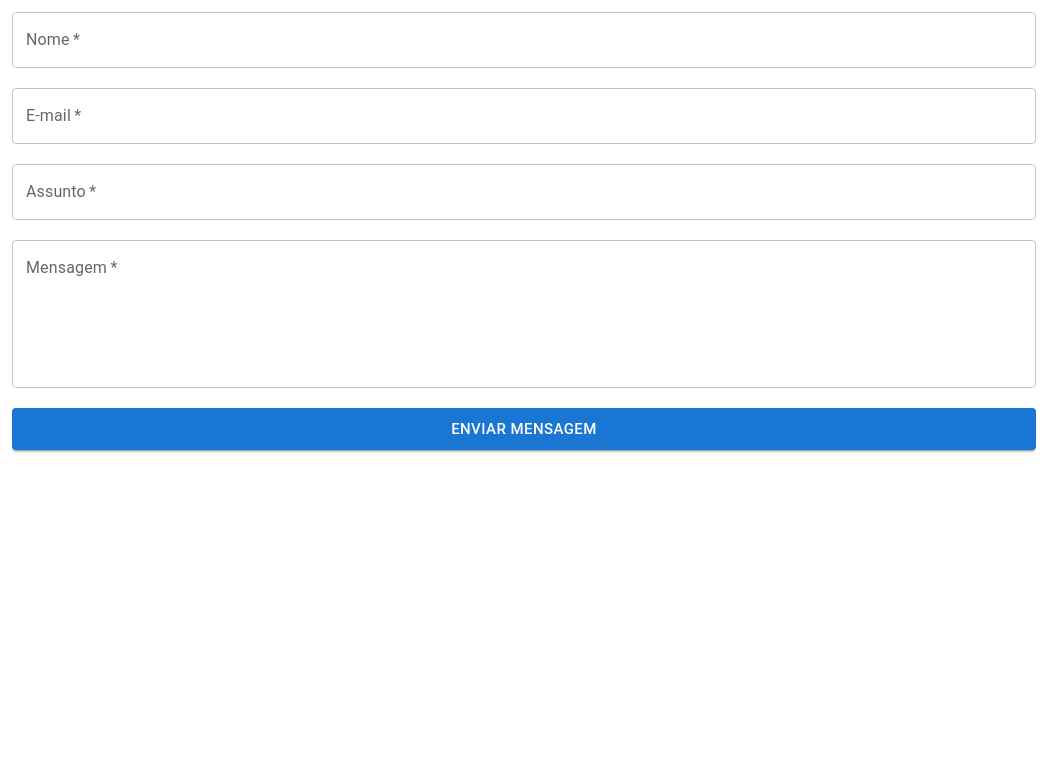
it: ContactForm › validation › shows error when name has fewer than 3 characters
Type "Jo" into the field labelled "Nome *" at [524, 40], box left=12, top=12, right=1036, bottom=68
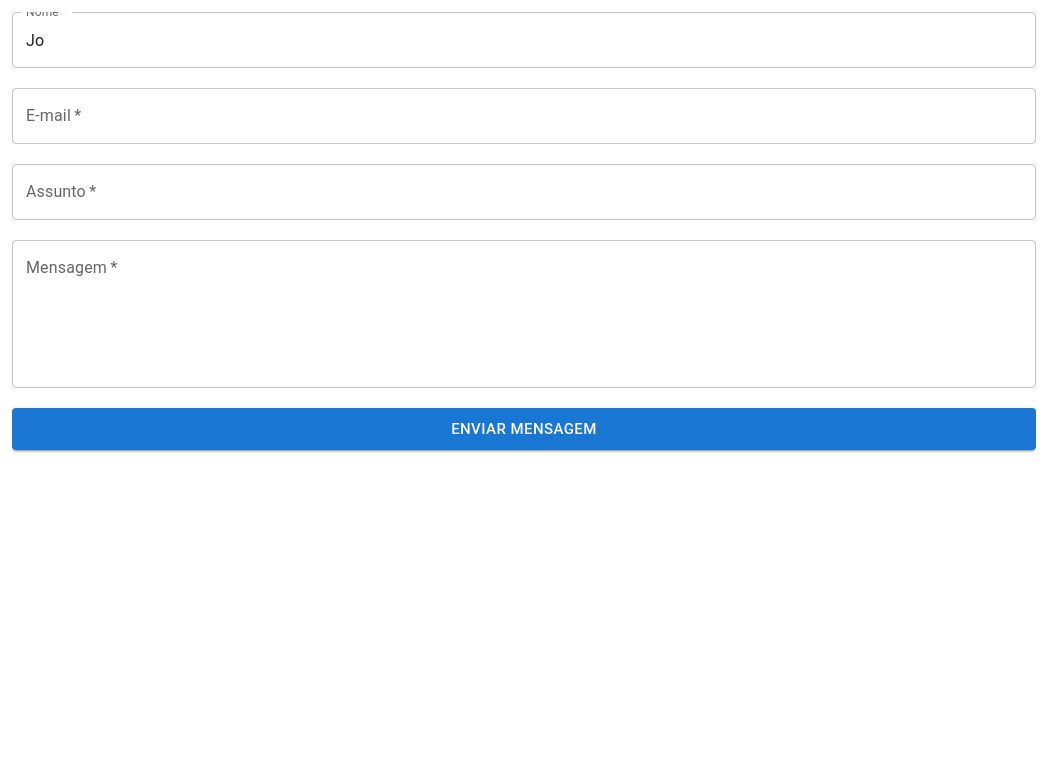
Click the button "Enviar mensagem" at [524, 429], box left=12, top=408, right=1036, bottom=450
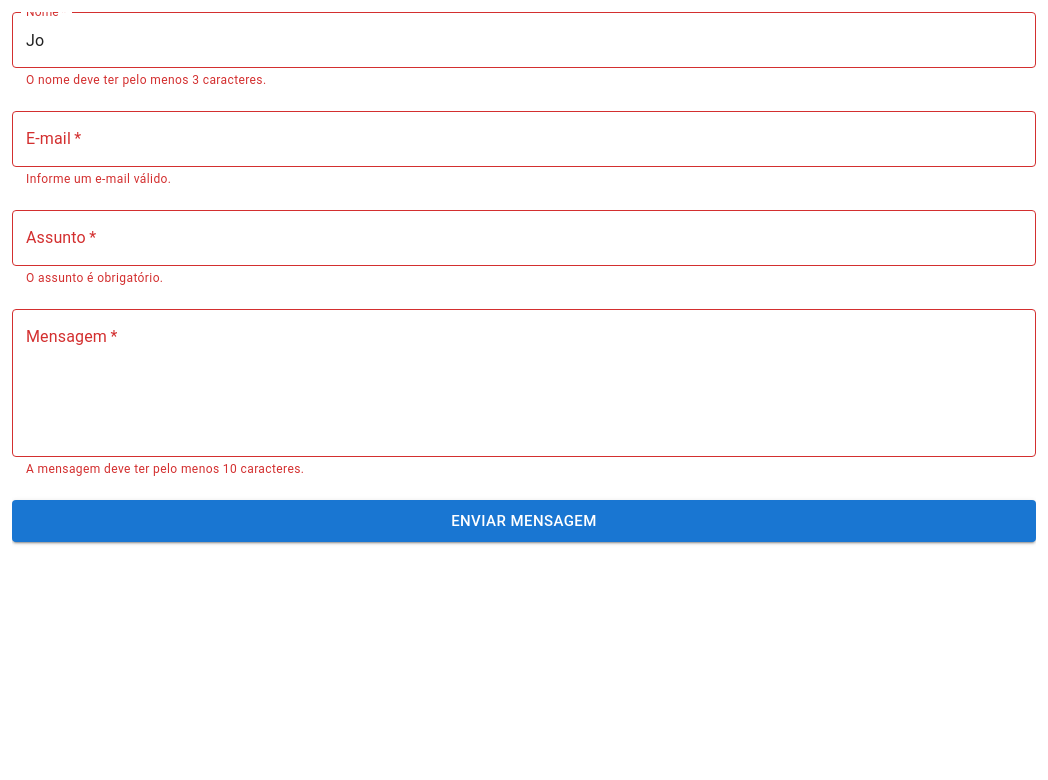
Now the text "O nome deve ter pelo menos 3 caracteres." is shown, box left=26, top=73, right=266, bottom=87
